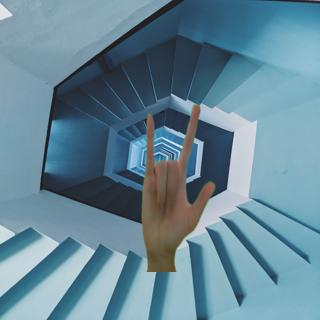ILY: (137, 102, 218, 261)
